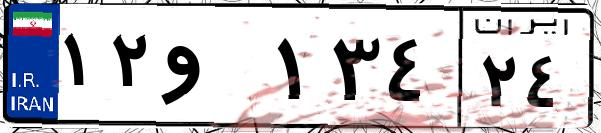1: (270, 28, 330, 110), (57, 26, 110, 100)
2: (475, 38, 525, 113), (110, 28, 158, 98)
3: (330, 28, 385, 110)
4: (385, 28, 445, 110), (525, 38, 570, 115)
و: (158, 20, 270, 120)
